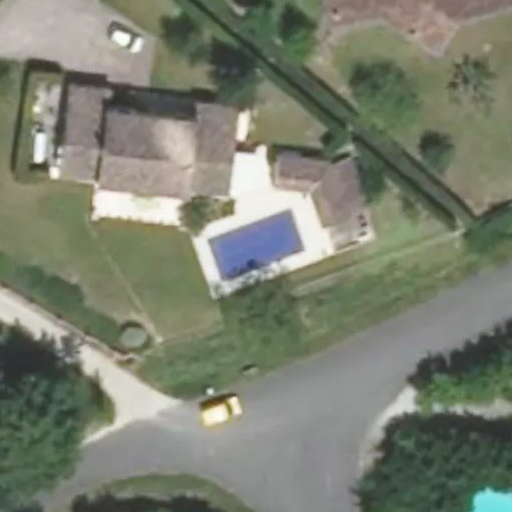pool: (200, 233, 312, 249)
